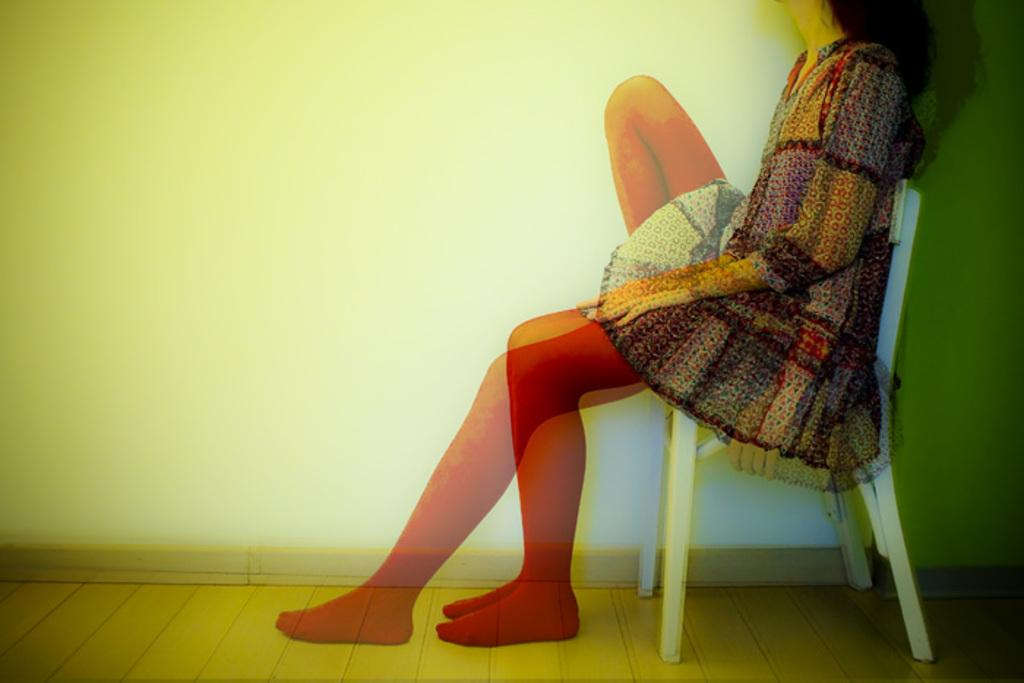Chair: (642, 178, 936, 665)
